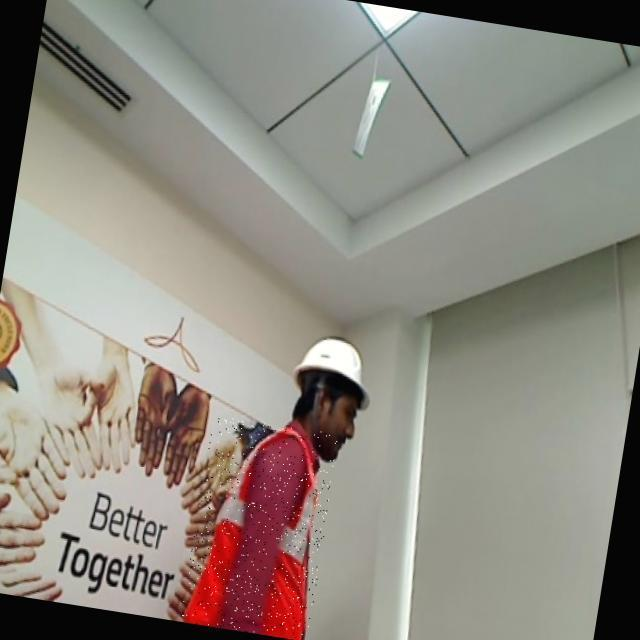helmet: (293, 329, 377, 423)
vest: (180, 414, 340, 640)
